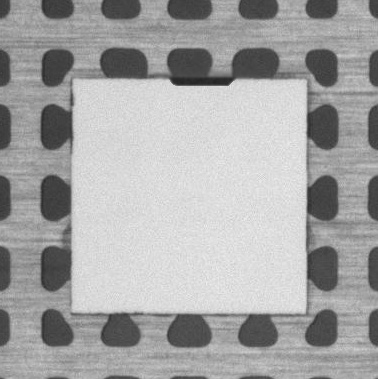DIE_BROKEN: (169, 71, 239, 89)
